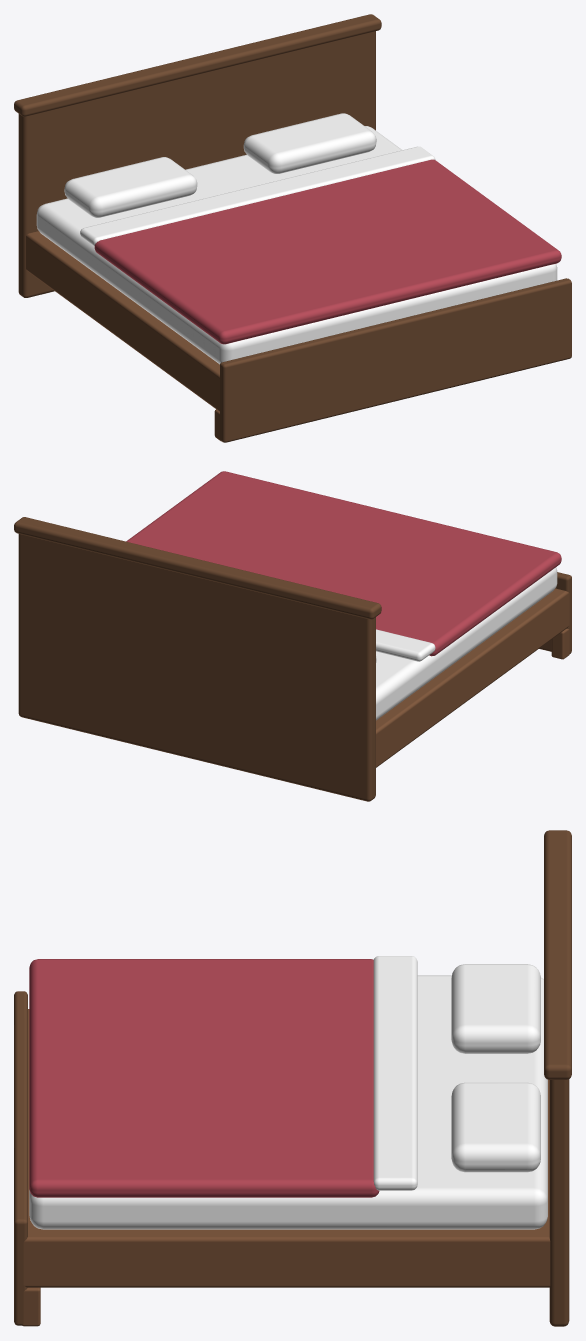
Rendered from bed_double.glb.
3 views of the same model, one above another, from view 1: azimuth 30°, elevation 25°; view 2: azimuth 150°, elevation 25°; view 3: azimuth 270°, elevation 25° (orthographic). The views are drawn at different scales.
Parts seen in each view (by area): view 1: Cube.007, Cube.003, Cube.005, Cube.006, Cube, Cube.004, Cube.008, Cube.010, Cube.009; view 2: Cube.003, Cube.007, Cube, Cube.004, Cube.006, Cube.008, Cube.005, Cube.001; view 3: Cube.007, Cube, Cube.006, Cube.008, Cube.010, Cube.009, Cube.004, Cube.003, Cube.005, Cube.002.
Part boxes in pixels (bbox=[...]): Cube.007: bbox=[94, 159, 561, 344]; Cube.003: bbox=[18, 31, 375, 297]; Cube.005: bbox=[220, 278, 571, 442]; Cube.006: bbox=[36, 126, 557, 364]; Cube: bbox=[26, 231, 219, 411]; Cube.004: bbox=[14, 14, 381, 116]; Cube.008: bbox=[80, 146, 435, 245]; Cube.010: bbox=[243, 113, 376, 173]; Cube.009: bbox=[64, 157, 197, 217]; Cube.003: bbox=[18, 534, 375, 801]; Cube.007: bbox=[126, 471, 561, 656]; Cube: bbox=[376, 588, 569, 767]; Cube.004: bbox=[14, 517, 381, 619]; Cube.006: bbox=[376, 567, 557, 720]; Cube.008: bbox=[376, 629, 435, 661]; Cube.005: bbox=[539, 572, 571, 653]; Cube.001: bbox=[551, 628, 569, 659]; Cube.007: bbox=[29, 959, 379, 1197]; Cube: bbox=[23, 1009, 550, 1287]; Cube.006: bbox=[29, 975, 547, 1229]; Cube.008: bbox=[373, 956, 417, 1190]; Cube.010: bbox=[451, 1082, 540, 1172]; Cube.009: bbox=[451, 964, 540, 1053]; Cube.004: bbox=[544, 830, 571, 1079]; Cube.003: bbox=[549, 1079, 569, 1326]; Cube.005: bbox=[14, 991, 27, 1325]; Cube.002: bbox=[22, 1287, 40, 1326].
Bounding box in the file's own units: 2.01 × 1.04 × 1.99.
